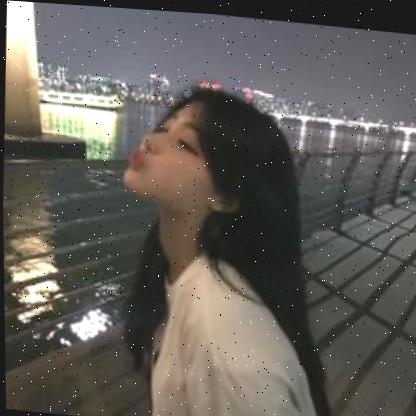person: (113, 74, 297, 249)
